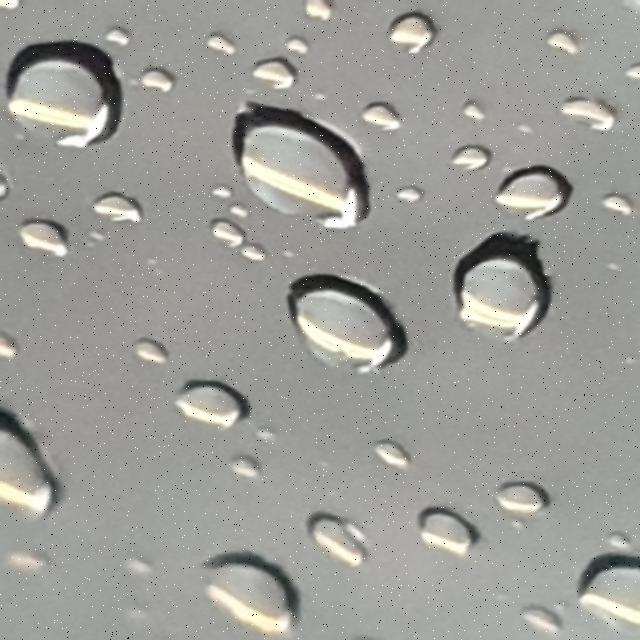raindrop: (213, 95, 380, 232), (430, 222, 575, 348), (276, 264, 418, 388), (2, 38, 132, 160), (170, 540, 310, 640), (0, 398, 71, 528), (472, 154, 580, 230), (276, 498, 382, 574), (140, 369, 244, 444), (559, 552, 640, 640), (400, 507, 484, 565), (380, 8, 460, 64), (530, 90, 626, 136), (0, 214, 73, 274), (492, 596, 584, 640), (101, 326, 183, 372), (222, 452, 281, 495), (0, 554, 63, 594), (354, 100, 418, 138), (365, 437, 420, 478), (92, 192, 150, 230), (190, 216, 248, 252), (489, 486, 551, 519), (522, 29, 582, 62), (589, 188, 640, 226), (455, 92, 504, 130), (206, 163, 251, 204), (130, 62, 180, 98), (112, 548, 182, 572), (103, 8, 143, 48), (248, 53, 290, 91), (274, 29, 324, 60), (298, 0, 348, 29), (224, 240, 272, 268), (436, 150, 484, 173), (203, 28, 240, 56), (622, 56, 640, 95)
